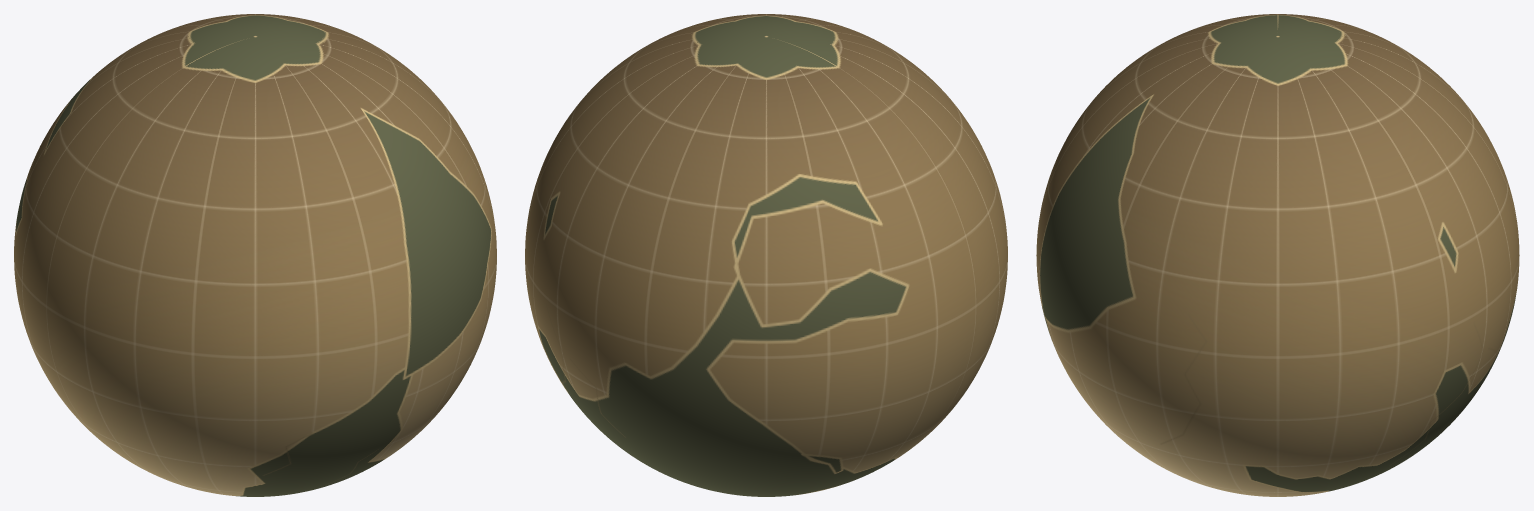
The model's file is world-globe.glb.
3 views of the same model, side by side, from view 1: azimuth 30°, elevation 25°; view 2: azimuth 150°, elevation 25°; view 3: azimuth 270°, elevation 25° (orthographic).
Parts seen in each view (by area): view 1: Singapore Heritage Globe; view 2: Singapore Heritage Globe; view 3: Singapore Heritage Globe.
Boxes of the visible parts, x1,y1,x2,y2 form: Singapore Heritage Globe: [14, 14, 496, 496]; Singapore Heritage Globe: [525, 14, 1007, 496]; Singapore Heritage Globe: [1036, 14, 1519, 496].
Size of the model in its own units: 3.2 by 3.2 by 3.2.
Materials: 1 (1 with a texture image).
